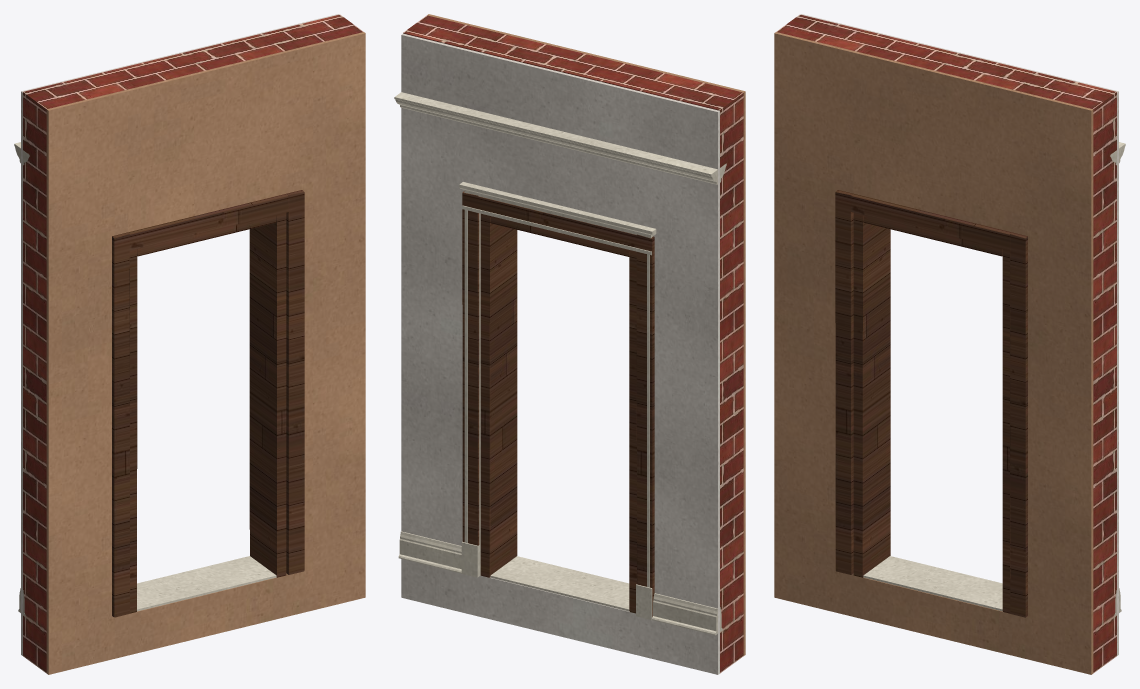
The model's file is b_u1_door.glb.
The picture shows the model from 3 angles, left to right: view 1: azimuth 30°, elevation 25°; view 2: azimuth 150°, elevation 25°; view 3: azimuth 330°, elevation 25°; orthographic projection.
Visible parts, largest first — view 1: b_u1_door_aplaster, b_u1_door_wood, b_u1_door_brick, b_u1_door_trim, b_u1_door_plaster; view 2: b_u1_door_plaster, b_u1_door_wood, b_u1_door_brick, molduras, b_u1_door_trim, b_u1_door_aplaster; view 3: b_u1_door_aplaster, b_u1_door_wood, b_u1_door_brick, b_u1_door_trim, b_u1_door_plaster.
Boxes of the visible parts, x1,y1,x2,y2 form: b_u1_door_aplaster: (46,32,365,674); b_u1_door_wood: (112,190,304,617); b_u1_door_brick: (23,14,363,673); b_u1_door_trim: (137,556,276,611); b_u1_door_plaster: (21,14,338,655); b_u1_door_plaster: (401,33,719,674); b_u1_door_wood: (462,191,654,616); b_u1_door_brick: (403,15,743,673); molduras: (394,92,726,635); b_u1_door_trim: (490,556,629,611); b_u1_door_aplaster: (427,14,745,655); b_u1_door_aplaster: (774,32,1093,674); b_u1_door_wood: (835,190,1027,617); b_u1_door_brick: (776,14,1116,673); b_u1_door_trim: (863,556,1002,611); b_u1_door_plaster: (801,14,1118,655).
Size of the model in its own units: 2 by 3.4 by 0.4.
Materials: 5 (5 with a texture image).
